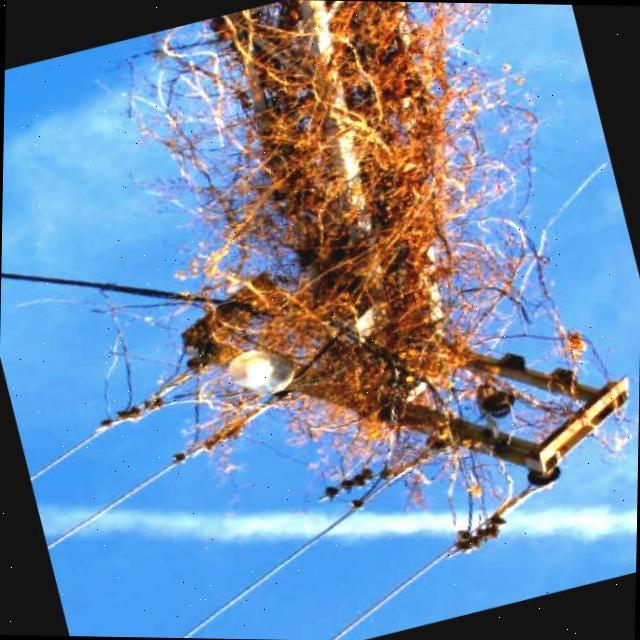critical vegetation: (67, 0, 626, 535)
